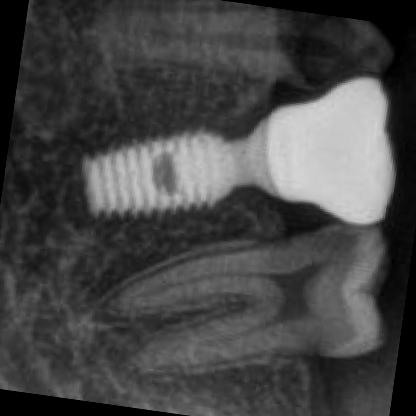Bicon: (67, 126, 248, 229)
